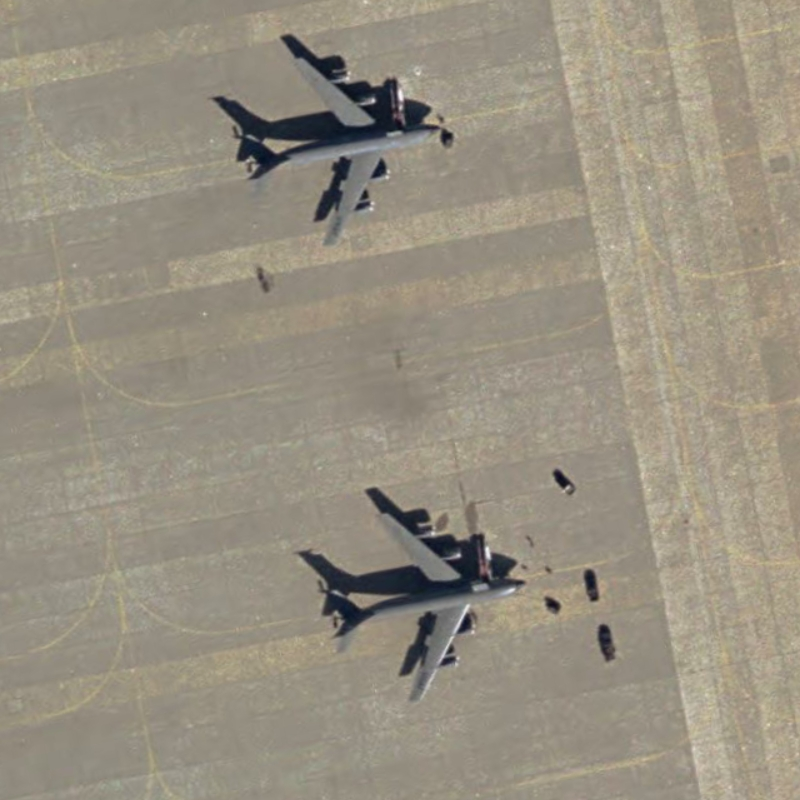A14: (233, 46, 452, 261), (310, 500, 532, 712)
